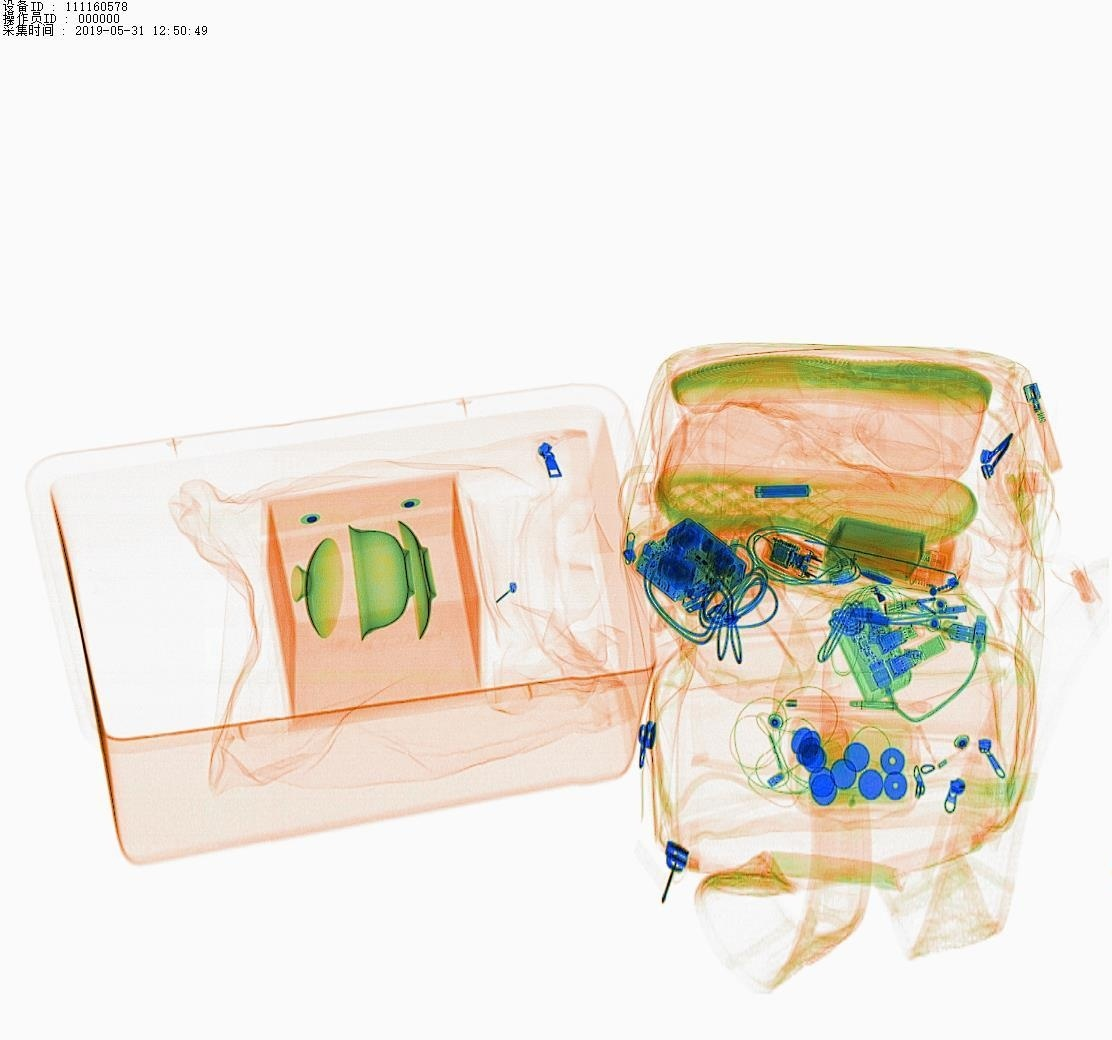NonmetallicFire: (1014, 368, 1071, 482)
